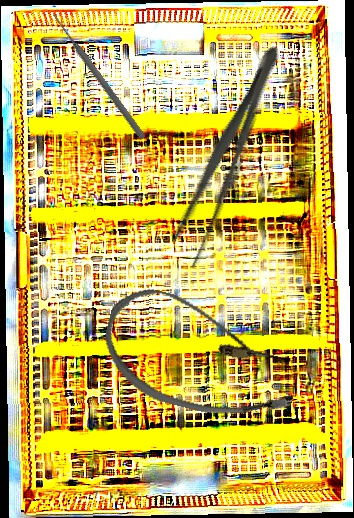Cannula: (92, 280, 311, 433)
Dressing Forceps: (164, 38, 293, 272)
Pusher: (49, 11, 148, 141)
